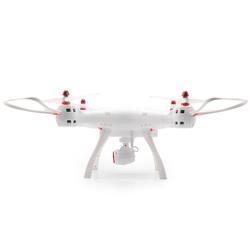drone: (4, 88, 250, 184)
